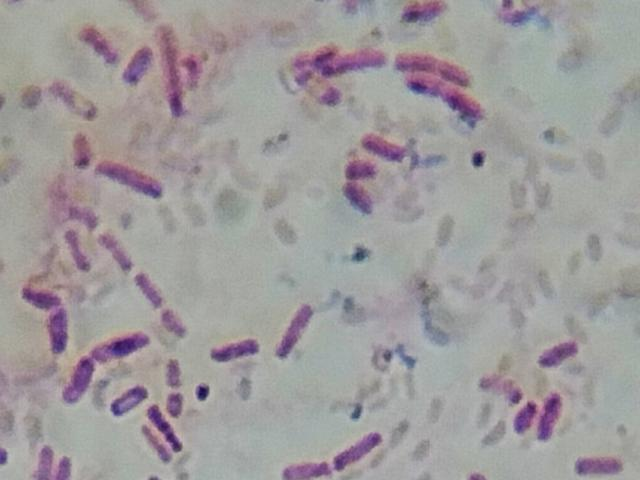E. coli: (410, 75, 494, 125), (157, 30, 192, 124), (389, 49, 479, 82), (272, 304, 319, 362), (98, 159, 161, 201), (332, 429, 389, 469), (565, 448, 624, 478), (90, 329, 144, 361), (152, 401, 183, 455), (209, 337, 265, 365), (359, 125, 402, 161), (64, 351, 90, 407), (276, 455, 334, 480), (292, 67, 329, 106), (328, 48, 388, 72), (539, 334, 579, 370), (53, 79, 87, 120), (59, 228, 88, 275), (100, 230, 133, 271), (538, 388, 563, 442), (123, 45, 150, 93), (344, 178, 379, 214), (43, 306, 70, 352), (345, 148, 381, 182), (19, 280, 60, 309), (144, 426, 175, 463), (135, 270, 166, 307), (390, 0, 447, 20), (67, 130, 91, 173), (157, 310, 189, 339), (113, 384, 144, 413), (82, 24, 106, 60), (516, 392, 538, 431), (39, 440, 56, 480), (168, 360, 184, 388), (57, 452, 73, 480), (169, 395, 183, 415), (455, 441, 455, 442)
